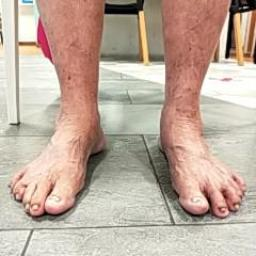Front View -Both Feet-: (1, 67, 253, 235)
